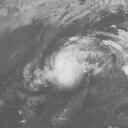cyclone: (44, 45, 97, 90)
